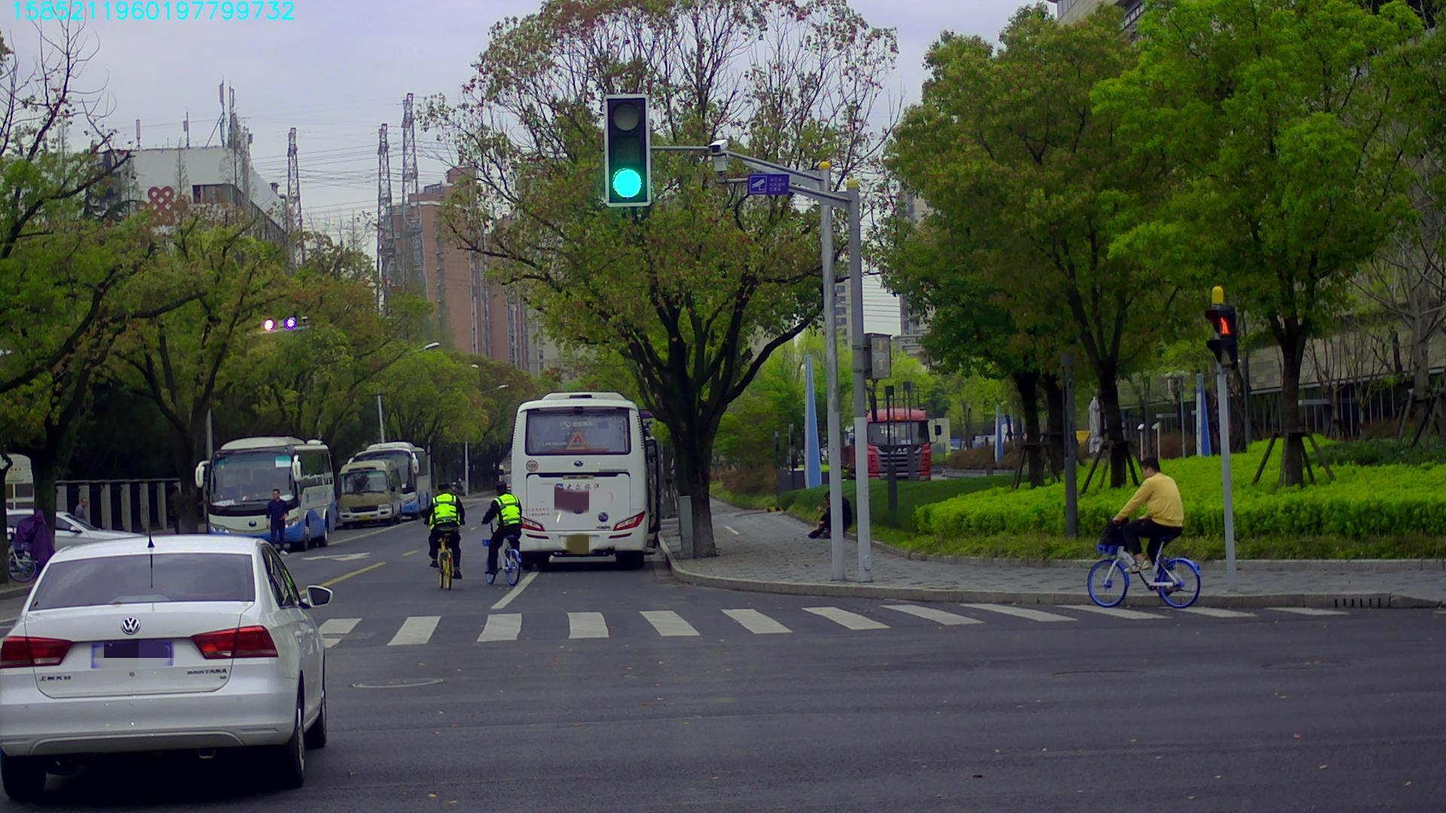green: (606, 96, 649, 203)
